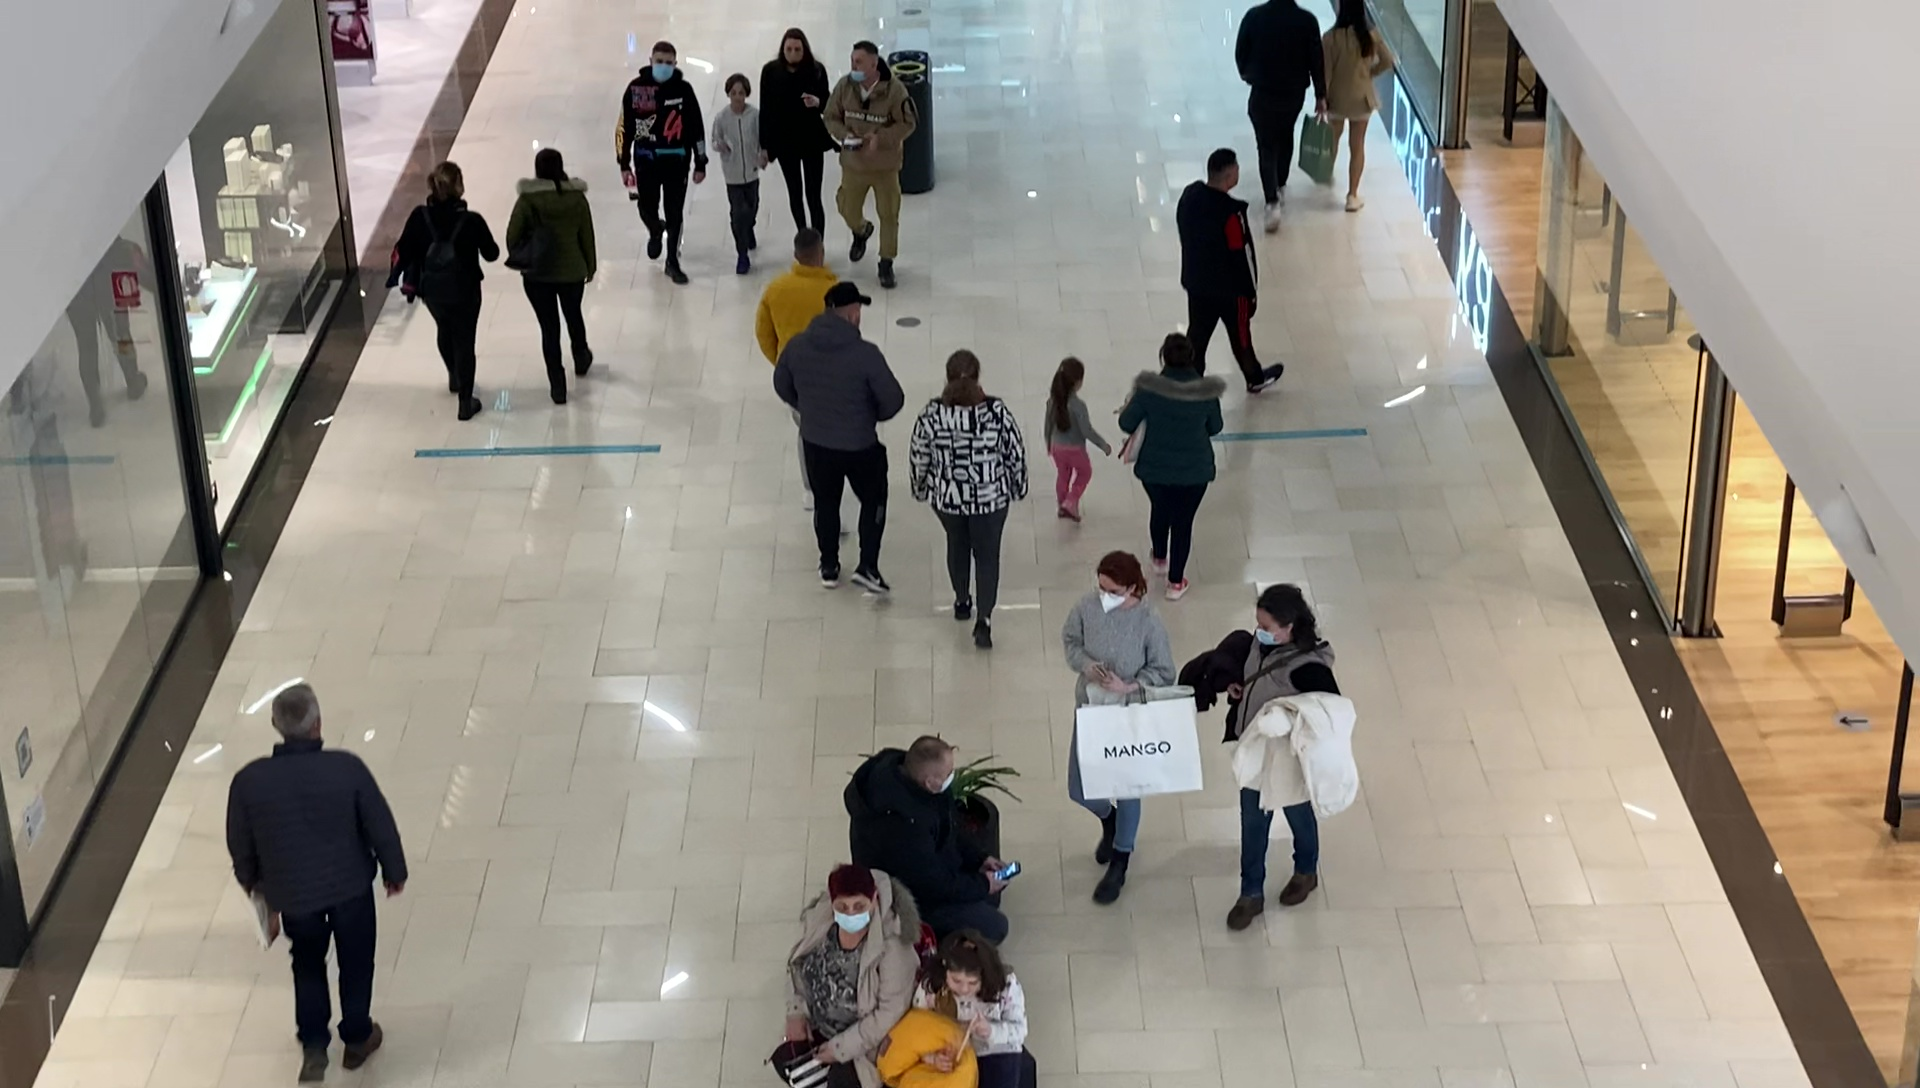person: (223, 685, 408, 1088), (1227, 583, 1354, 930), (775, 282, 905, 598), (1063, 552, 1174, 905), (910, 350, 1032, 651), (386, 162, 501, 424), (1118, 335, 1226, 600), (1176, 148, 1287, 394), (506, 148, 601, 405), (615, 41, 706, 283), (827, 43, 917, 288), (1236, 1, 1324, 236), (760, 29, 833, 243), (1323, 1, 1395, 214), (712, 72, 771, 272), (1043, 358, 1112, 519)
